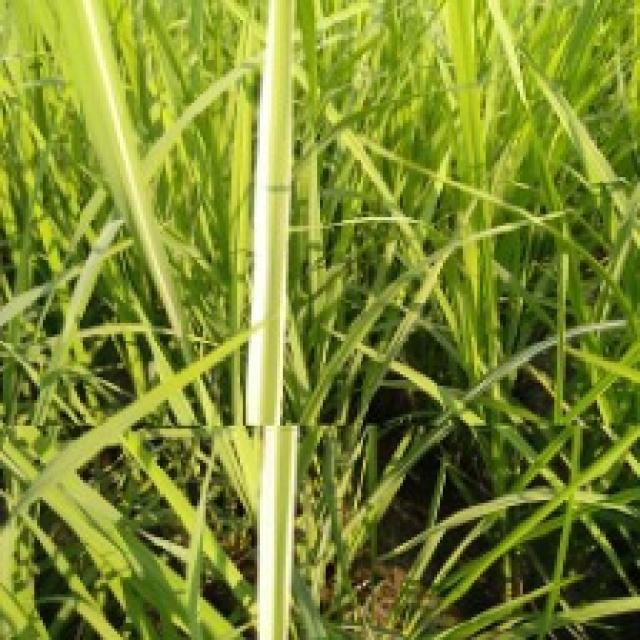Rice___Bacterial_Leaf_Blight: (242, 0, 303, 637)
